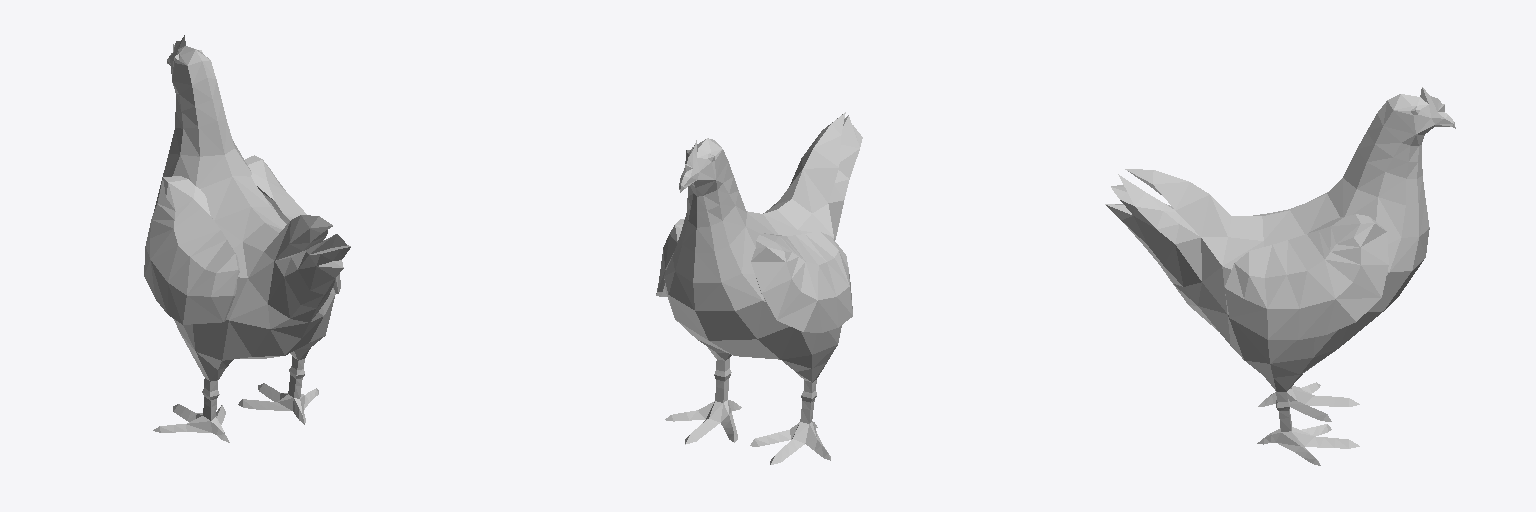
The model's file is chicken_001.obj.
The picture shows the model from 3 angles: view 1: azimuth 30°, elevation 25°; view 2: azimuth 150°, elevation 25°; view 3: azimuth 270°, elevation 25°; orthographic projection.
Visible parts, largest first — view 1: chicken_001; view 2: chicken_001; view 3: chicken_001.
Boxes of the visible parts, x1,y1,x2,y2 form: chicken_001: [144, 35, 350, 442]; chicken_001: [656, 112, 862, 464]; chicken_001: [1105, 87, 1455, 465].
Bounding box in the file's own units: 0.2675 × 0.52 × 0.4886.